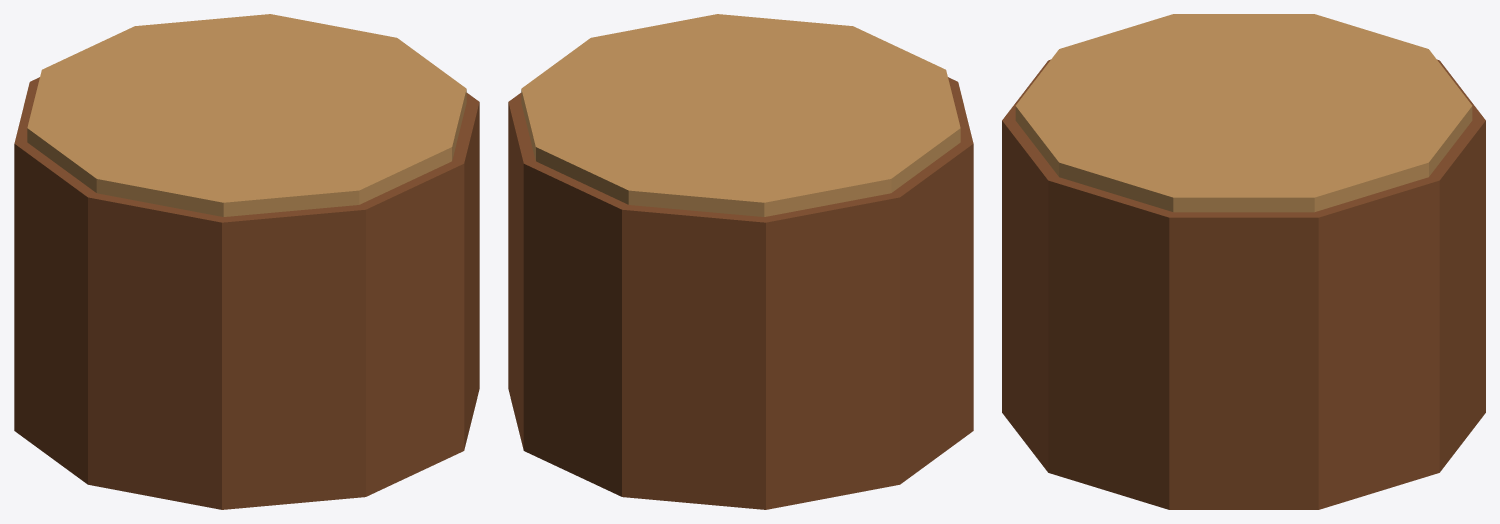
File: ENV_Greenwood_Stump_V1.glb
The picture shows the model from 3 angles, left to right: view 1: azimuth 30°, elevation 25°; view 2: azimuth 150°, elevation 25°; view 3: azimuth 270°, elevation 25°; orthographic projection.
Parts seen in each view (by area): view 1: Stump, CutWood; view 2: Stump, CutWood; view 3: Stump, CutWood.
Part boxes in pixels (<box>): Stump: <box>14,77,479,509</box>; CutWood: <box>27,14,466,216</box>; Stump: <box>508,77,973,509</box>; CutWood: <box>521,14,960,216</box>; Stump: <box>1002,59,1485,509</box>; CutWood: <box>1015,14,1472,212</box>.
Bounding box in the file's own units: 1.71 × 1.26 × 1.8.
